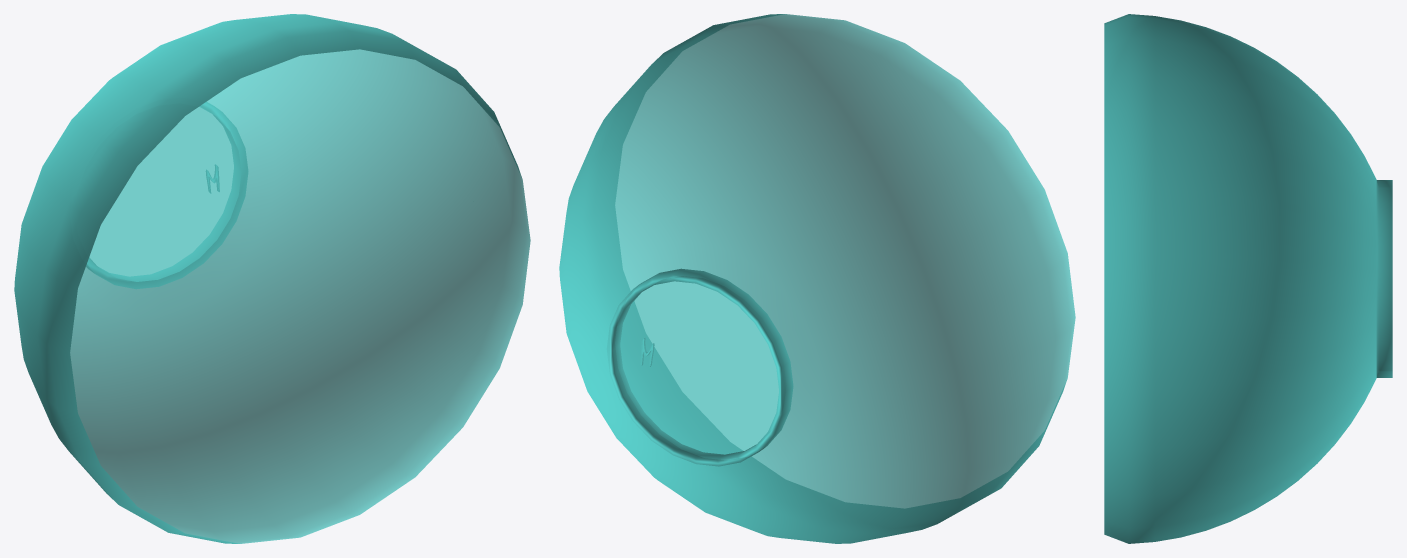
Rendered from model_align.obj.
3 renders of one model, left to right at view 1: azimuth 30°, elevation 25°; view 2: azimuth 150°, elevation 25°; view 3: azimuth 270°, elevation 25°, orthographic. The views are drawn at different scales.
Parts seen in each view (by area): view 1: mesh1_mesh1-geometry; view 2: mesh1_mesh1-geometry; view 3: mesh1_mesh1-geometry.
Part boxes in pixels (x1,y1,x2,y2): mesh1_mesh1-geometry: (14, 14, 530, 543); mesh1_mesh1-geometry: (559, 14, 1075, 543); mesh1_mesh1-geometry: (1104, 14, 1392, 543).
Size of the model in its own units: 0.1413 by 0.1413 by 0.0766.
